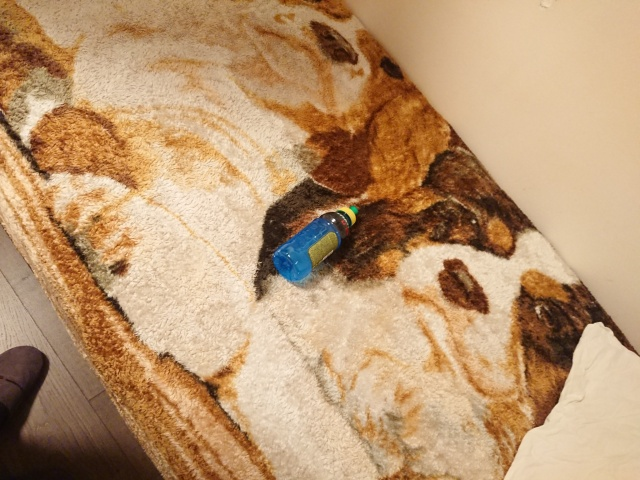Vindi Iso Sport Forest Strawberries 500mL: (270, 203, 359, 282)
